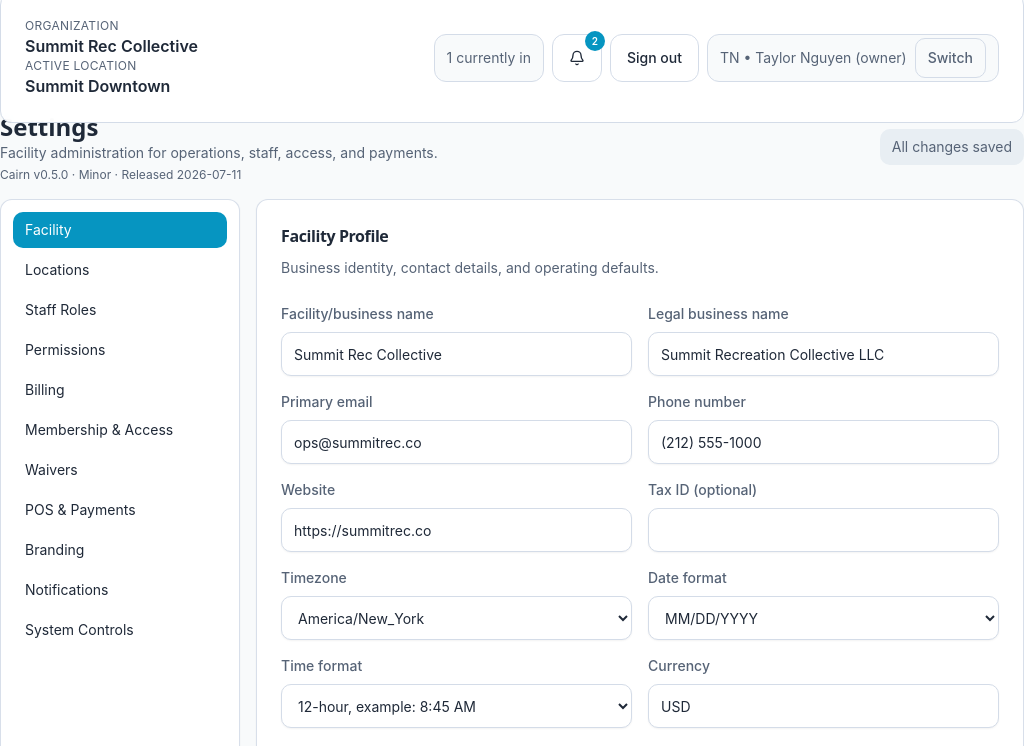
Test case: Settings system MVP › saves facility settings and clears dirty state
The width and height of the screenshot is (1024, 746).
Click the button "Switch" at (950, 58), box [915,38,986,78]
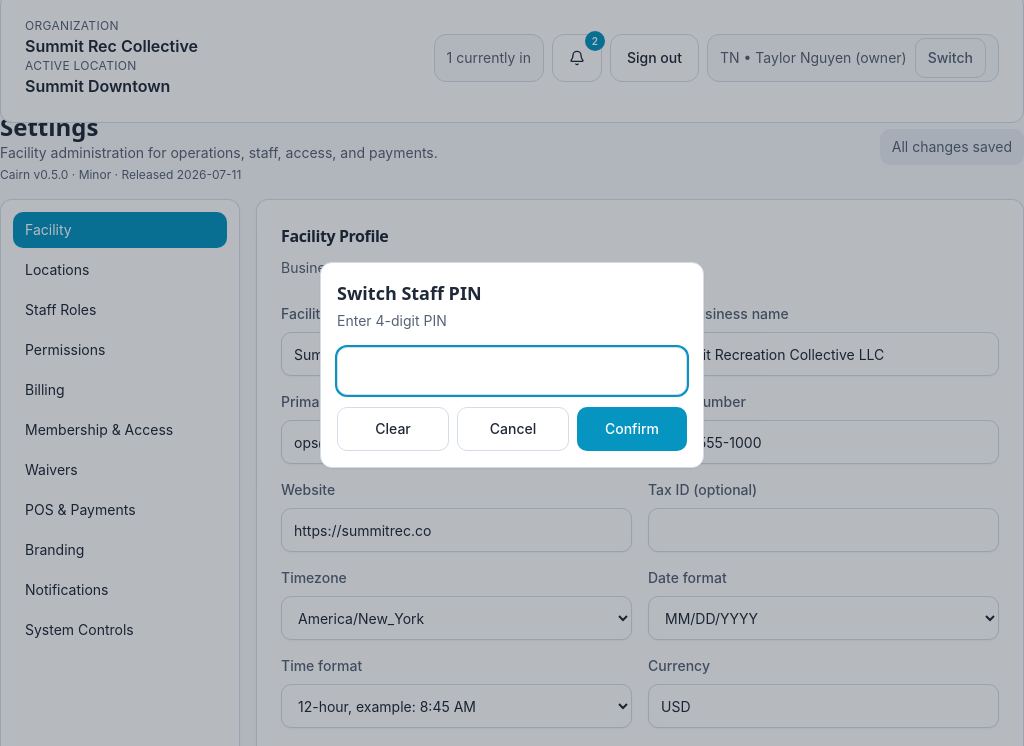
Type "1111" into the password field named "Staff PIN input" at (512, 371), box [337,347,687,395]
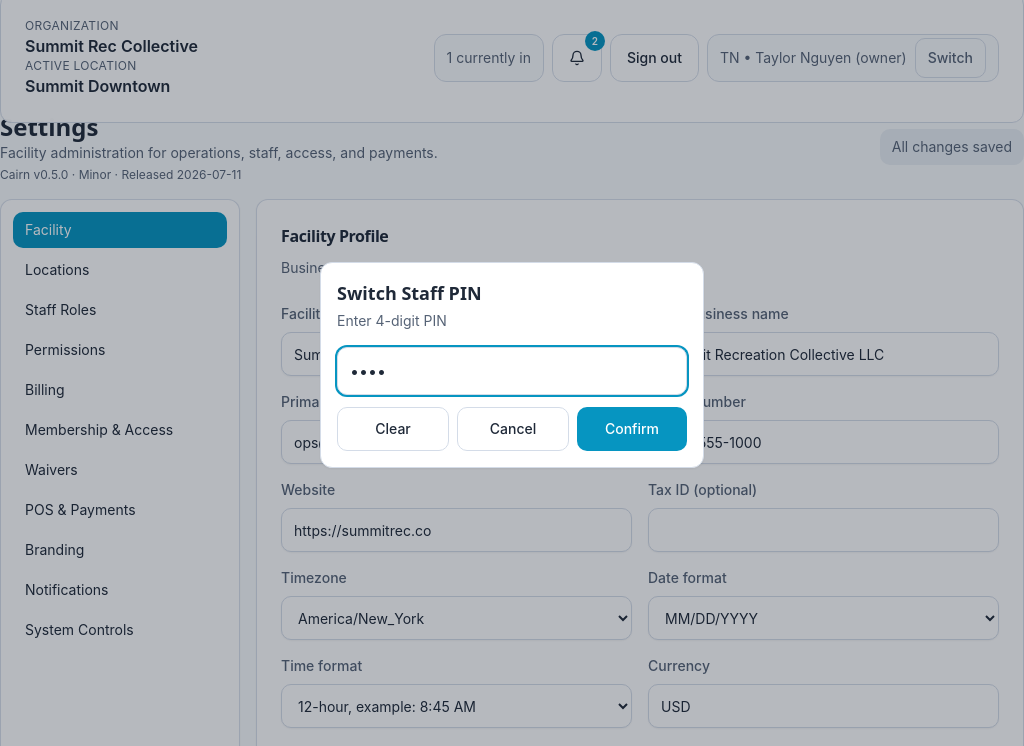
Click the button "Confirm" at (632, 429), box [577,407,687,451]
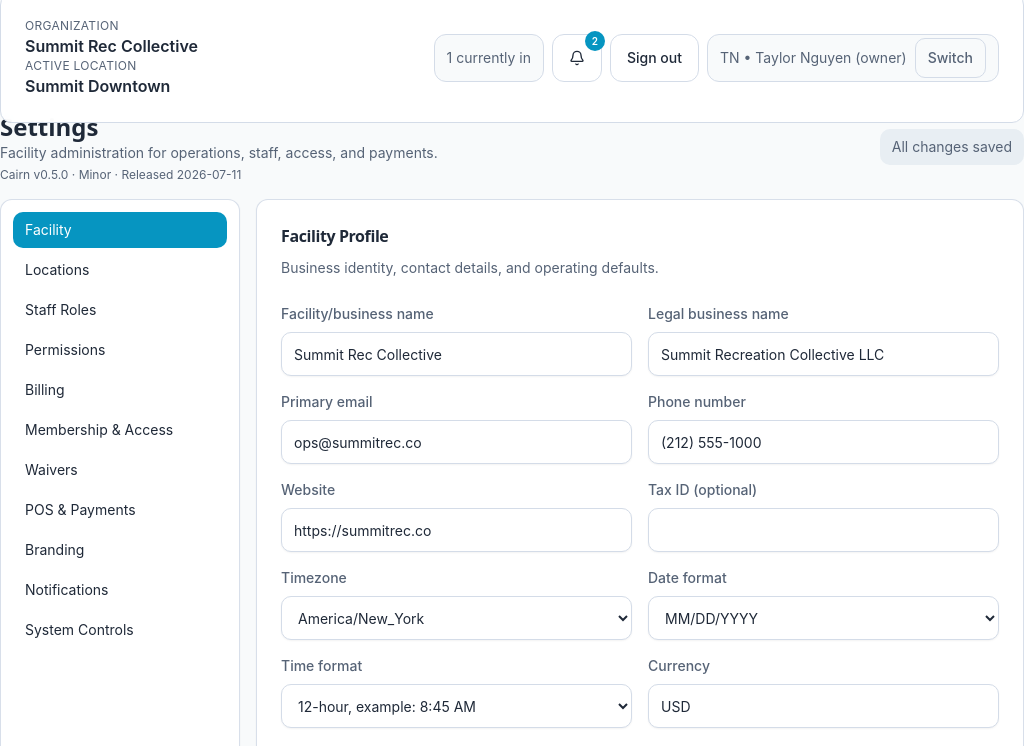
Replace the text in the field labelled "Legal business name" with "Summit Testing LLC" at (824, 354), box [648,332,999,376]
(page scrolled)
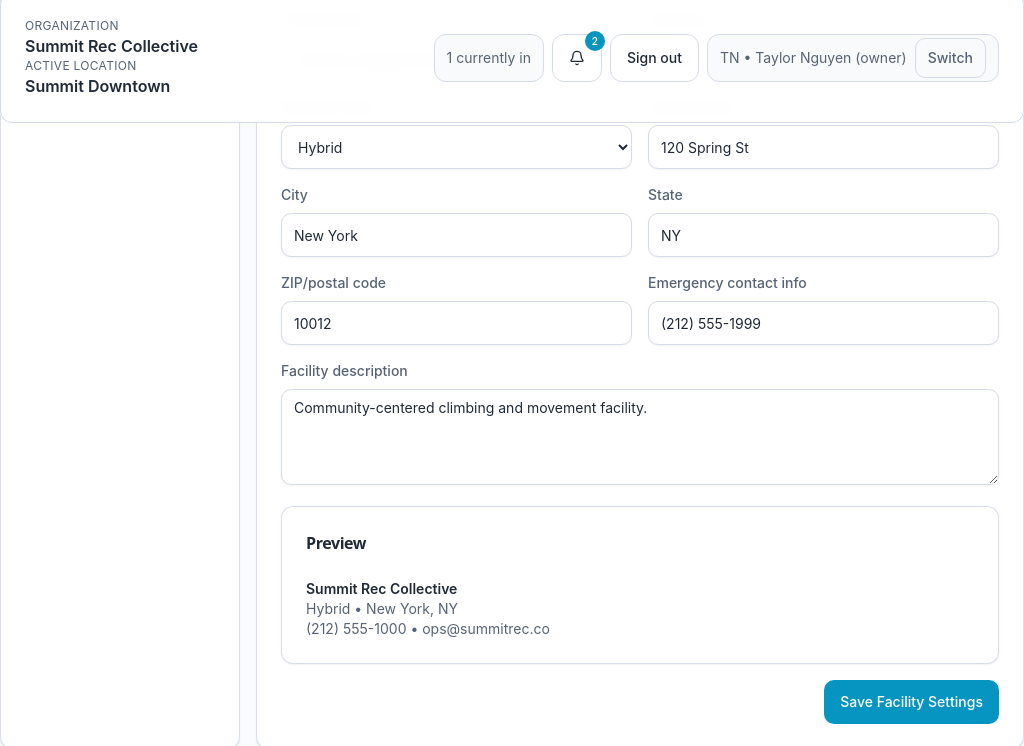
expect the button "Save Facility Settings" is enabled: met
Click the button "Save Facility Settings" at (912, 702), box [824,680,999,724]
(page scrolled)
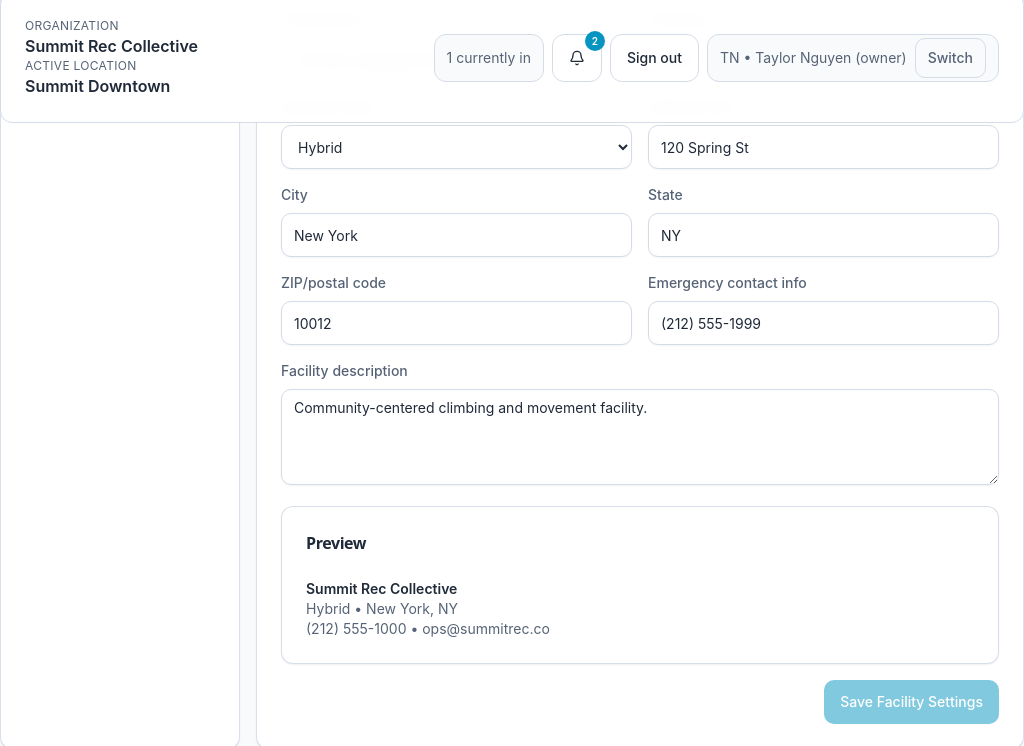
expect the button "Save Facility Settings" is disabled: met, box [824,680,999,724]
